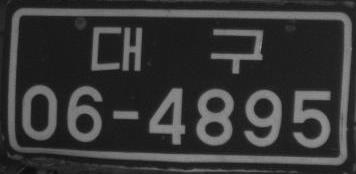0: (21, 82, 57, 140)
4: (148, 86, 185, 144)
5: (292, 89, 331, 148)
6: (67, 85, 103, 142)
8: (194, 86, 234, 146)
9: (244, 88, 282, 147)
대구_D: (90, 24, 265, 73)
